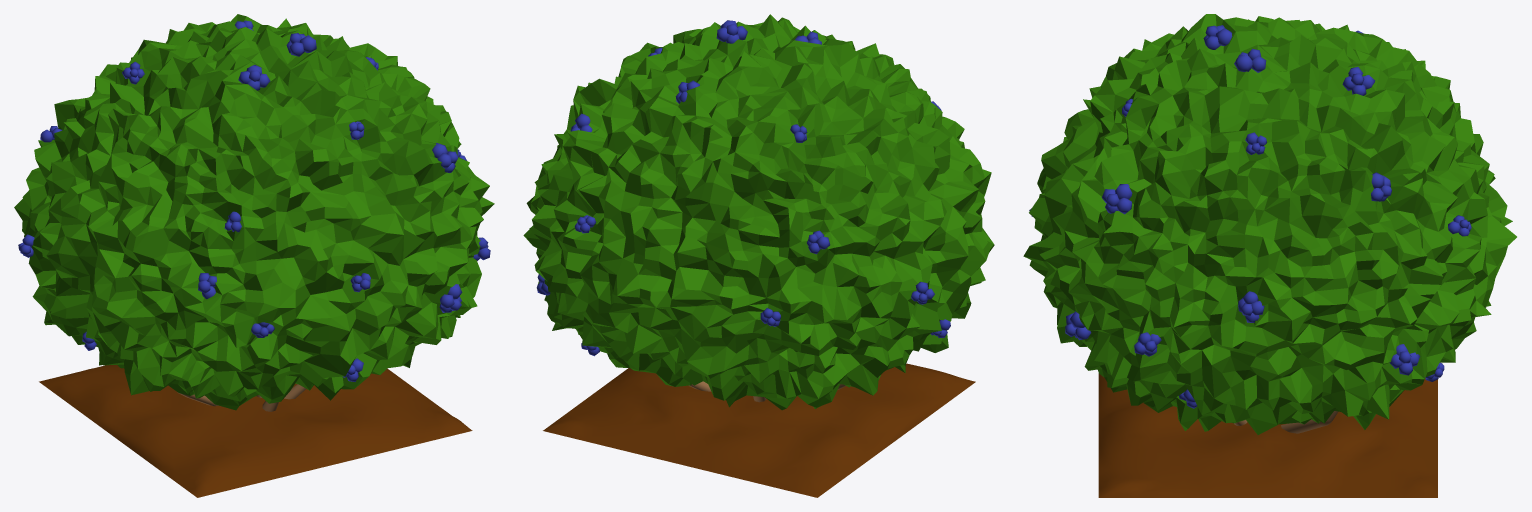
File: blueberry.glb
The picture shows the model from 3 angles, left to right: view 1: azimuth 30°, elevation 25°; view 2: azimuth 150°, elevation 25°; view 3: azimuth 270°, elevation 25°; orthographic projection. The views are drawn at different scales.
Visible parts, largest first — view 1: 5_summer_nft; view 2: 5_summer_nft; view 3: 5_summer_nft.
Boxes of the visible parts, x1,y1,x2,y2 form: 5_summer_nft: (14, 14, 494, 497); 5_summer_nft: (523, 14, 994, 497); 5_summer_nft: (1023, 14, 1516, 497).
Size of the model in its own units: 2.11 by 1.8 by 2.04.
